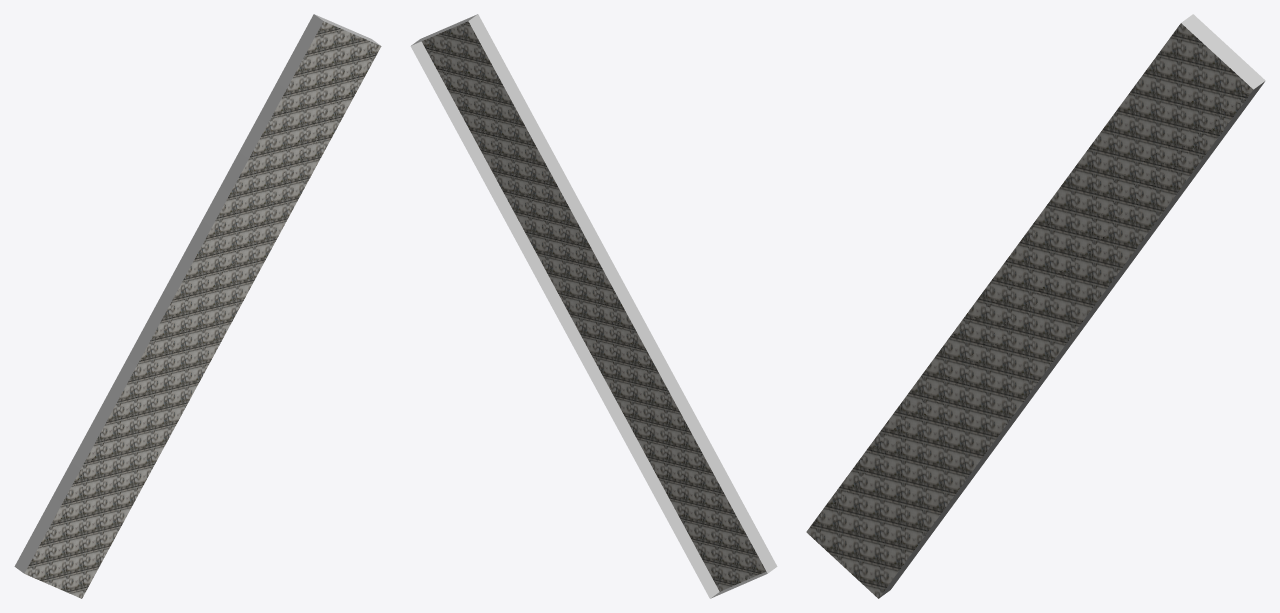
File: geospecific_91.obj
3 renders of one model, left to right at view 1: azimuth 30°, elevation 25°; view 2: azimuth 150°, elevation 25°; view 3: azimuth 330°, elevation 25°, orthographic. The views are drawn at different scales.
Visible parts, largest first — view 1: Building; view 2: Building; view 3: Building.
Part boxes in pixels (<box>): Building: <box>14,14,381,598</box>; Building: <box>410,14,777,598</box>; Building: <box>806,14,1265,598</box>.
Size of the model in its own units: 63.23 by 87.76 by 3.
